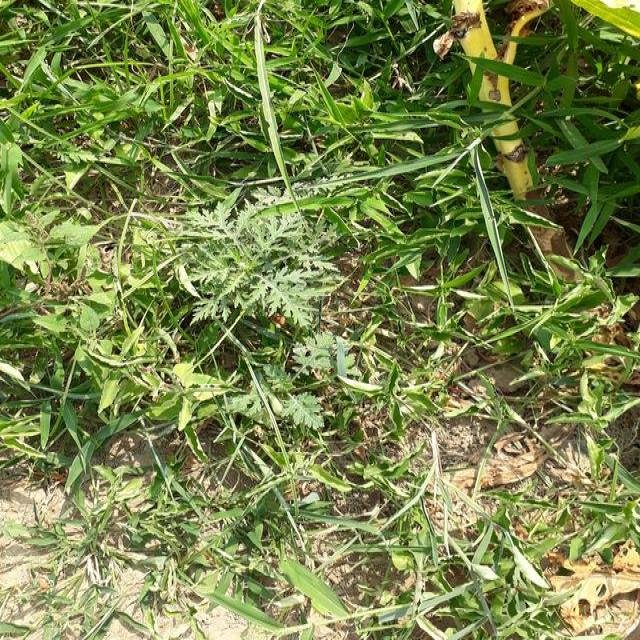weed: (0, 0, 620, 524)
